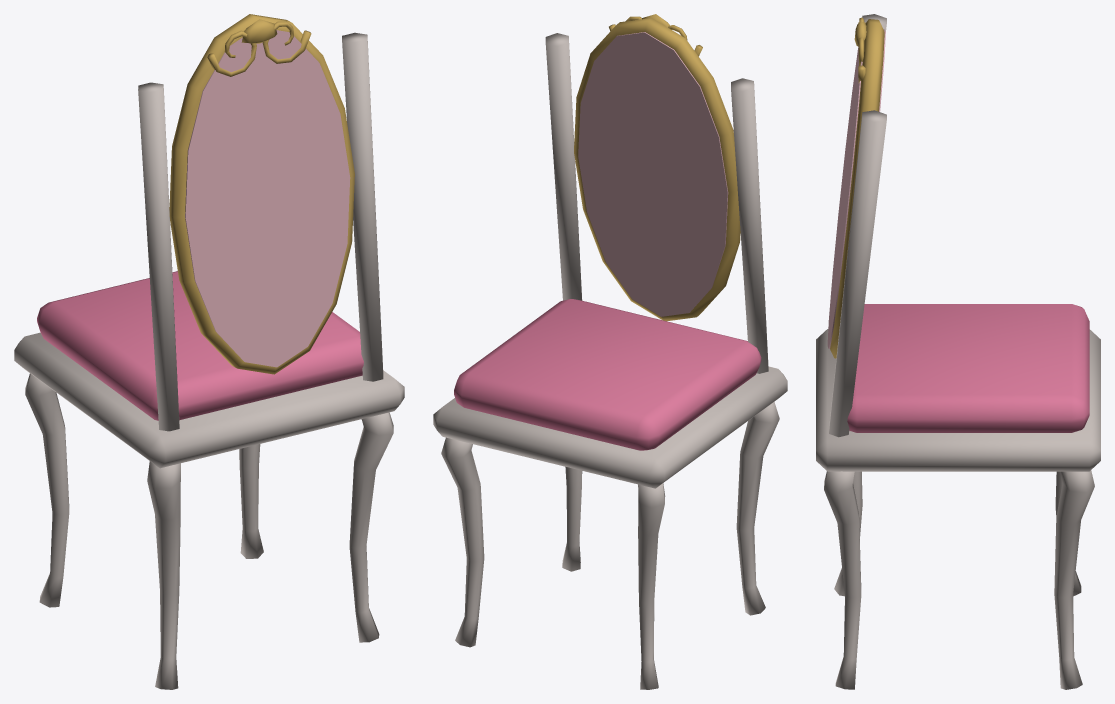
Rendered from chair_dining.glb.
3 renders of one model, left to right at view 1: azimuth 30°, elevation 25°; view 2: azimuth 150°, elevation 25°; view 3: azimuth 270°, elevation 25°, orthographic. The views are drawn at different scales.
Parts seen in each view (by area): view 1: chair_dining; view 2: chair_dining; view 3: chair_dining.
Boxes of the visible parts, <box> form: chair_dining: <box>14,14,404,689</box>; chair_dining: <box>433,14,787,689</box>; chair_dining: <box>816,14,1100,689</box>.
Size of what is drawn, in the model's own units: 0.5 by 1.2 by 0.5.
